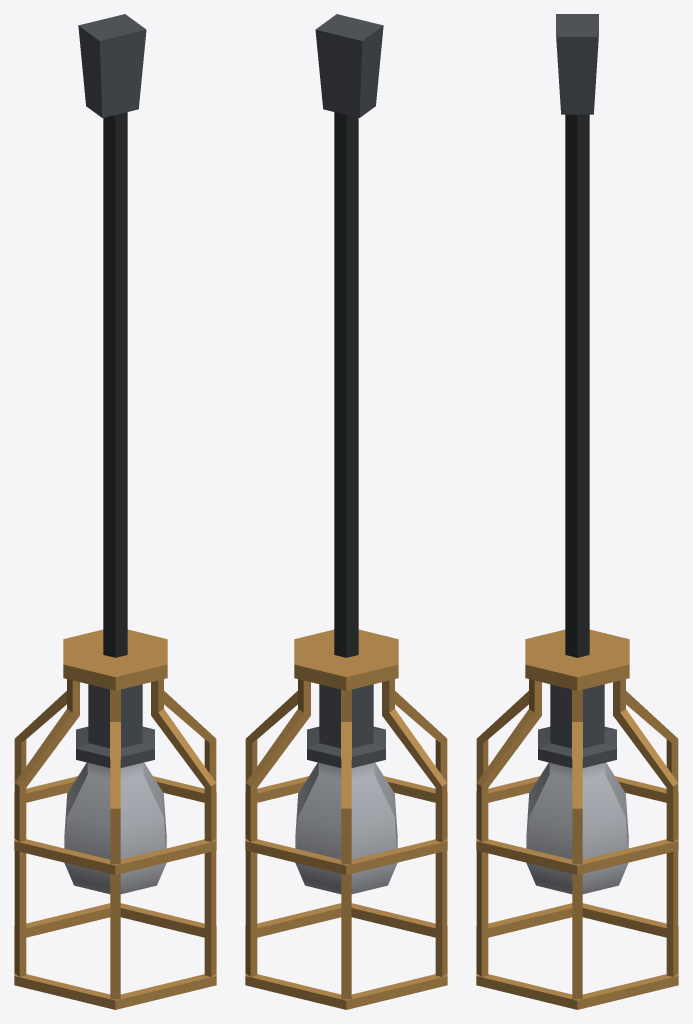
The model's file is SM_Prop_Wire_Lights_02.glb.
3 views of the same model, side by side, from view 1: azimuth 30°, elevation 25°; view 2: azimuth 150°, elevation 25°; view 3: azimuth 270°, elevation 25° (orthographic).
Parts seen in each view (by area): view 1: SM_Prop_Wire_Lights_02; view 2: SM_Prop_Wire_Lights_02; view 3: SM_Prop_Wire_Lights_02.
Boxes of the visible parts, x1,y1,x2,y2 form: SM_Prop_Wire_Lights_02: [14, 14, 216, 1009]; SM_Prop_Wire_Lights_02: [245, 14, 447, 1009]; SM_Prop_Wire_Lights_02: [476, 14, 678, 1009].
Bounding box in the file's own units: 0.2114 × 0.9311 × 0.1831.
Materials: 1 (1 with a texture image).
